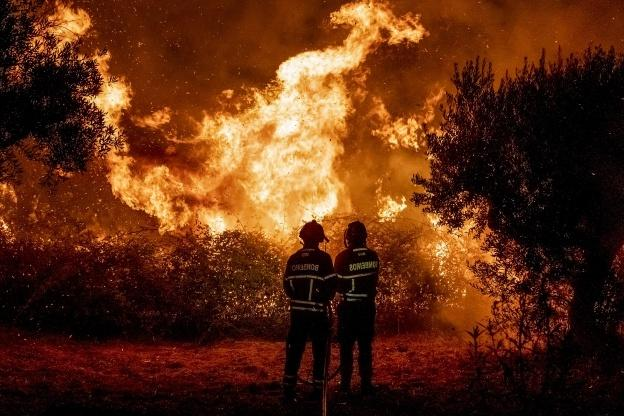victim: (282, 210, 334, 404), (332, 218, 383, 399)
